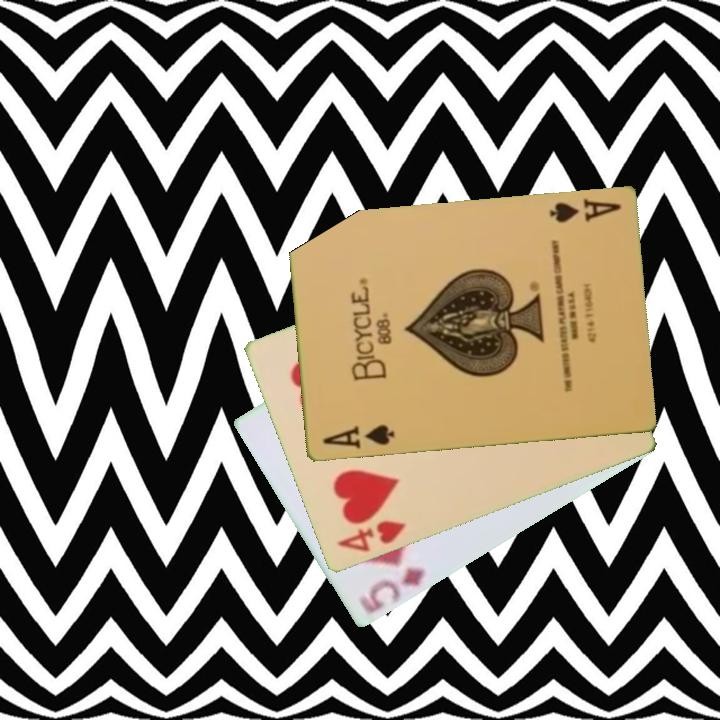4h: (334, 517, 408, 556)
5d: (355, 564, 429, 617)
As: (545, 195, 624, 226), (319, 421, 397, 452)
